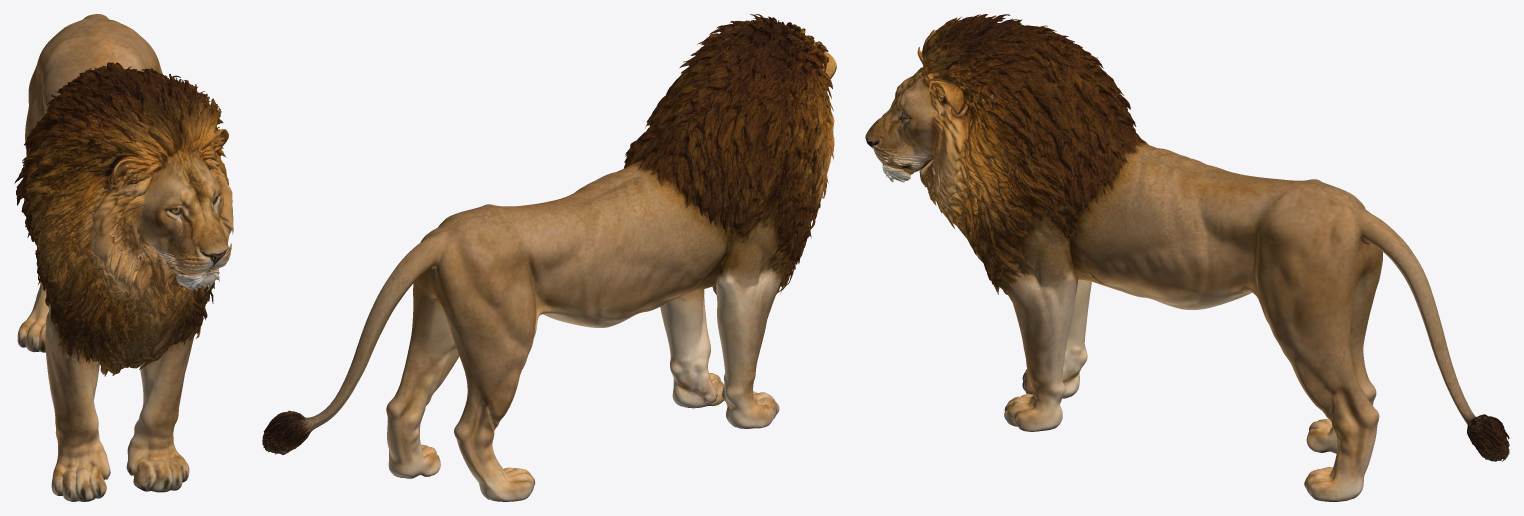
Rendered from CC0_Lion_Grab3D.glb.
3 renders of one model, left to right at view 1: azimuth 30°, elevation 25°; view 2: azimuth 150°, elevation 25°; view 3: azimuth 270°, elevation 25°, orthographic. The views are drawn at different scales.
Parts seen in each view (by area): view 1: lion; view 2: lion; view 3: lion.
Boxes of the visible parts, x1,y1,x2,y2 form: lion: [14, 14, 233, 501]; lion: [262, 14, 836, 501]; lion: [865, 14, 1509, 501].
Size of the model in its own units: 1.65 by 1.77 by 2.7.
Materials: 1 (1 with a texture image).
